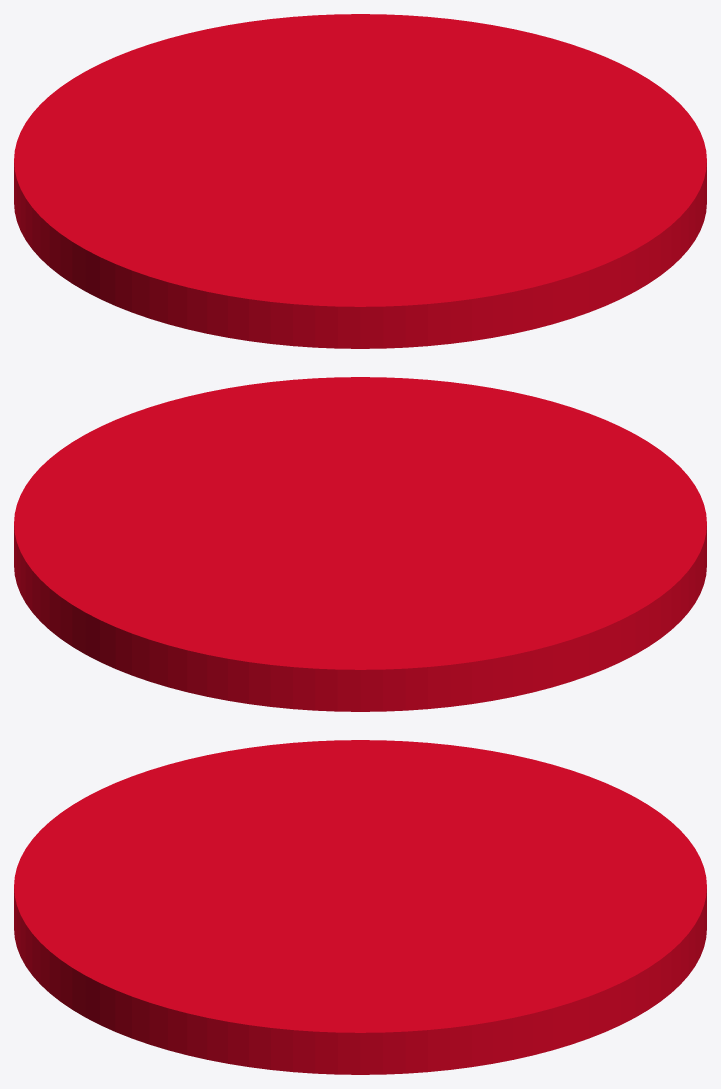
Rendered from si-keilat-1-5-uniryyn-Alusta2.fbx.
3 views of the same model, one above another, from view 1: azimuth 30°, elevation 25°; view 2: azimuth 150°, elevation 25°; view 3: azimuth 270°, elevation 25° (orthographic).
Parts seen in each view (by area): view 1: Cylinder.015; view 2: Cylinder.015; view 3: Cylinder.015.
Part boxes in pixels (x1,y1,x2,y2): Cylinder.015: [14, 14, 706, 348]; Cylinder.015: [14, 377, 706, 711]; Cylinder.015: [14, 740, 706, 1074].
Bounding box in the file's own units: 358 × 24 × 358.
